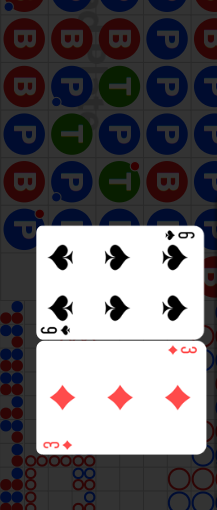3D: (43, 439, 75, 451)
6S: (163, 229, 196, 242)
